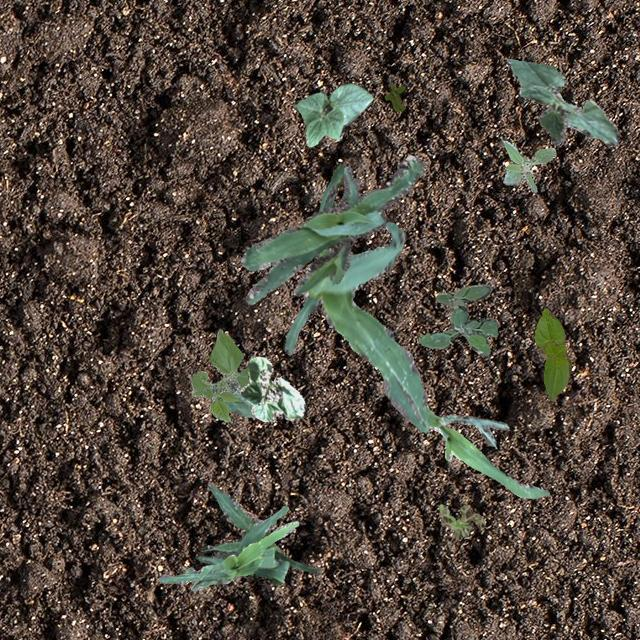crop: (284, 164, 428, 432), (240, 154, 426, 304), (196, 481, 320, 584), (424, 403, 548, 498), (506, 58, 618, 146), (158, 520, 298, 590), (190, 328, 254, 420), (293, 81, 372, 146), (238, 356, 306, 420), (534, 308, 570, 400)
weed: (418, 284, 497, 356), (502, 140, 554, 192), (438, 504, 483, 540), (384, 82, 404, 110)
